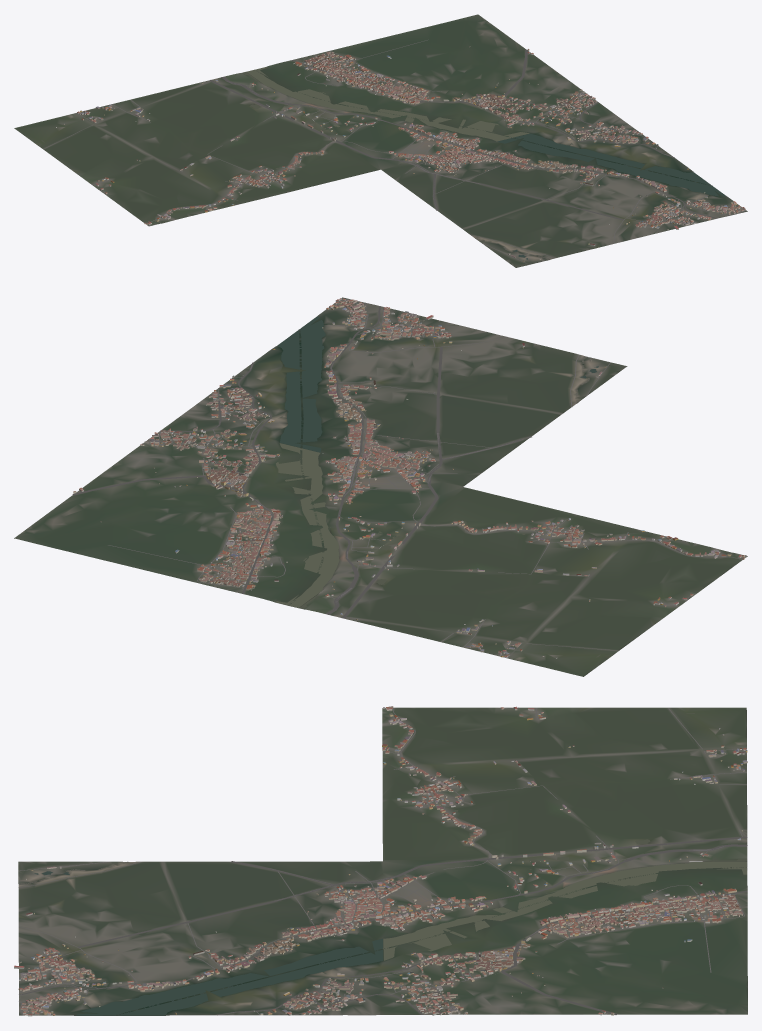
The picture shows the model from 3 angles, top to bottom: view 1: azimuth 30°, elevation 25°; view 2: azimuth 150°, elevation 25°; view 3: azimuth 270°, elevation 25°; orthographic projection. The views are drawn at different scales.
Visible parts, largest first — view 1: ground, buildings, water, roads; view 2: ground, buildings, water, roads; view 3: ground, buildings, water, roads.
Part boxes in pixels (left/top/right/bottom): ground: left=14, top=14, right=747, bottom=267; buildings: left=56, top=46, right=745, bottom=261; water: left=41, top=67, right=726, bottom=260; roads: left=44, top=39, right=745, bottom=264; ground: left=14, top=297, right=747, bottom=676; buildings: left=73, top=298, right=746, bottom=658; water: left=276, top=316, right=729, bottom=657; roads: left=72, top=299, right=742, bottom=658; ground: left=18, top=707, right=747, bottom=1015; buildings: left=14, top=706, right=747, bottom=1016; water: left=18, top=713, right=747, bottom=1015; roads: left=18, top=707, right=747, bottom=1015.
Size of the model in its own units: 2807 by 21.71 by 2823.
